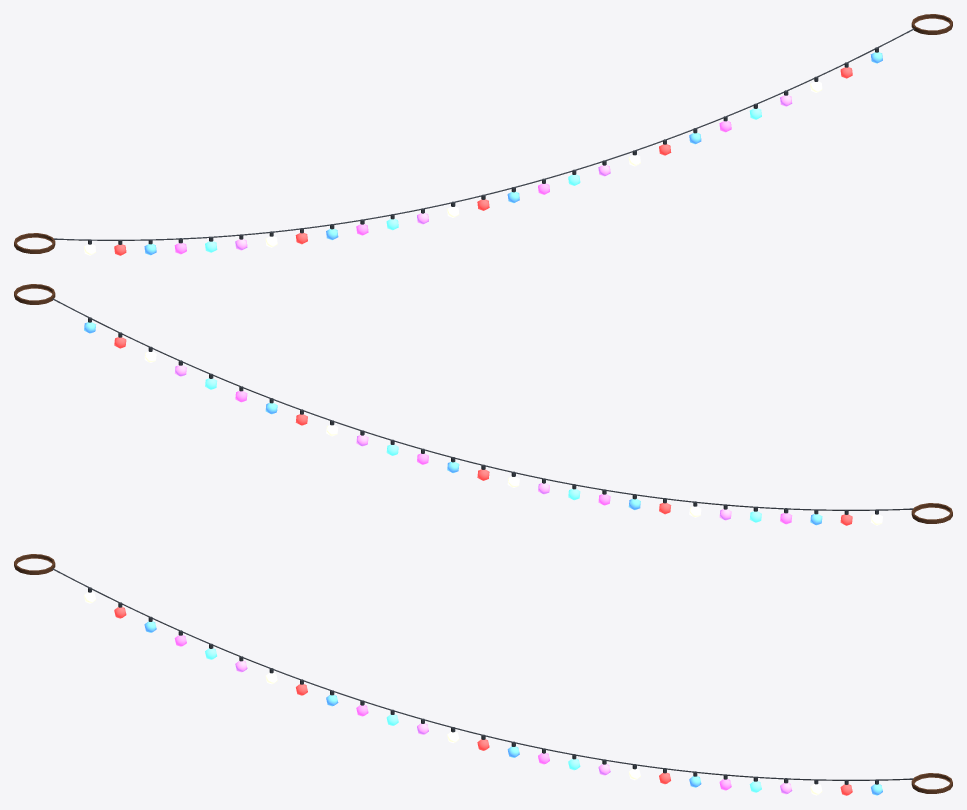
File: varal_lampadas_15m.glb
The picture shows the model from 3 angles, top to bottom: view 1: azimuth 30°, elevation 25°; view 2: azimuth 150°, elevation 25°; view 3: azimuth 330°, elevation 25°; orthographic projection.
Visible parts, largest first — view 1: varal_lampadas_15m, lampadas_a, lampadas_b; view 2: varal_lampadas_15m, lampadas_a, lampadas_b; view 3: varal_lampadas_15m, lampadas_a, lampadas_b.
Boxes of the visible parts, left/top/right/bottom form: varal_lampadas_15m: left=14, top=14, right=952, bottom=253; lampadas_a: left=84, top=47, right=882, bottom=255; lampadas_b: left=114, top=62, right=852, bottom=255; varal_lampadas_15m: left=14, top=284, right=952, bottom=523; lampadas_a: left=84, top=317, right=882, bottom=525; lampadas_b: left=114, top=332, right=852, bottom=525; varal_lampadas_15m: left=14, top=554, right=952, bottom=793; lampadas_a: left=84, top=587, right=882, bottom=795; lampadas_b: left=114, top=602, right=852, bottom=795.
Size of the model in its own units: 15.6 by 1.26 by 0.585.
Materials: 7 (1 with a texture image).
